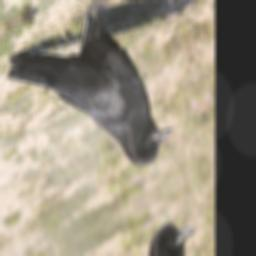Crow: (0, 0, 179, 226)
